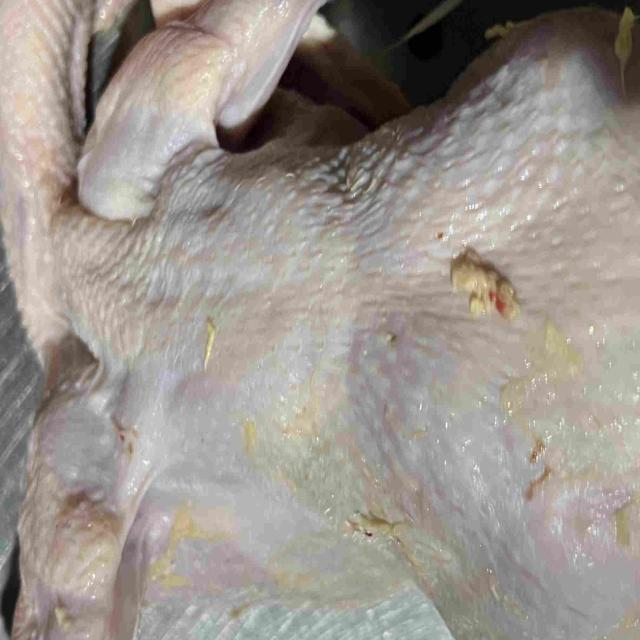back: (133, 58, 640, 547)
leg: (419, 559, 640, 640)
wing: (79, 0, 322, 218), (7, 380, 140, 640)
